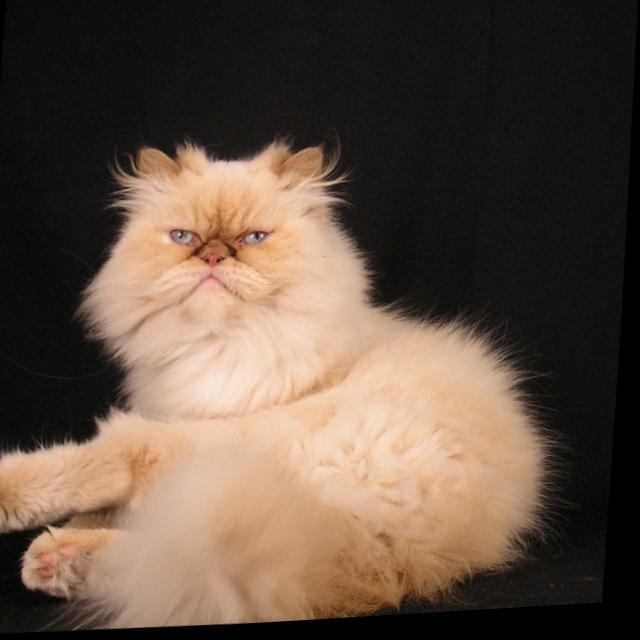animals: (136, 143, 323, 273)
